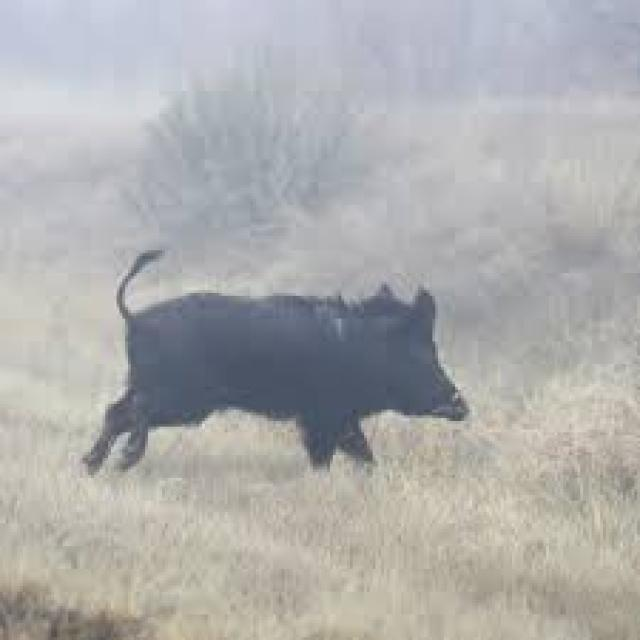Boar: (89, 266, 474, 484)
